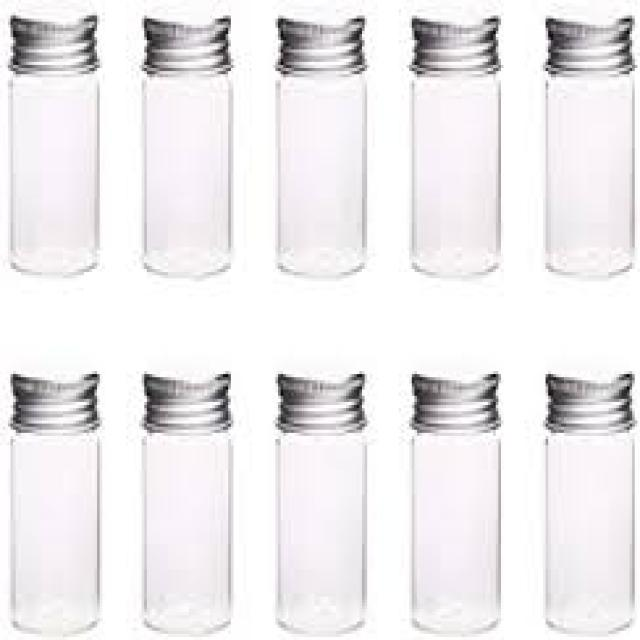glass: (139, 424, 231, 631), (5, 427, 97, 634), (137, 71, 229, 275), (541, 424, 630, 634), (410, 68, 499, 278), (273, 430, 365, 631), (273, 71, 365, 272), (410, 427, 499, 631), (543, 71, 632, 272), (8, 71, 94, 269)
metal: (407, 6, 499, 68), (543, 359, 629, 424), (11, 365, 100, 427), (409, 368, 501, 427), (270, 368, 362, 427), (540, 12, 632, 71), (139, 6, 226, 68), (8, 6, 94, 68), (142, 365, 231, 423), (273, 6, 362, 62)
